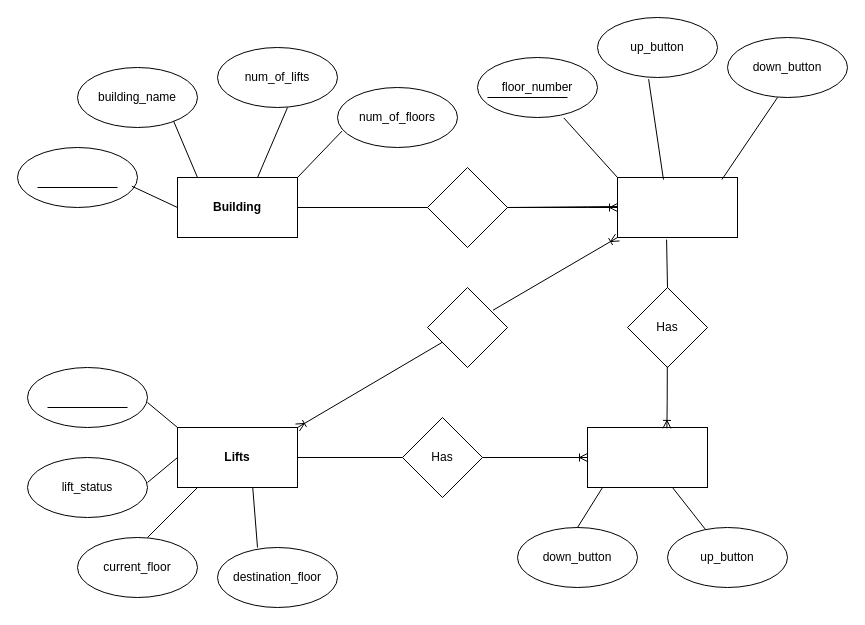
This 865x625 diagram has some shape labels left out. The centre of each missing label's shape, as x and y in pixels:
"building_id" belongs at [77,177].
"Buttons" belongs at [647,457].
"contains" belongs at [467,207].
"Floors" belongs at [677,207].
"lift_id" belongs at [87,397].
"Services" belongs at [467,327].
